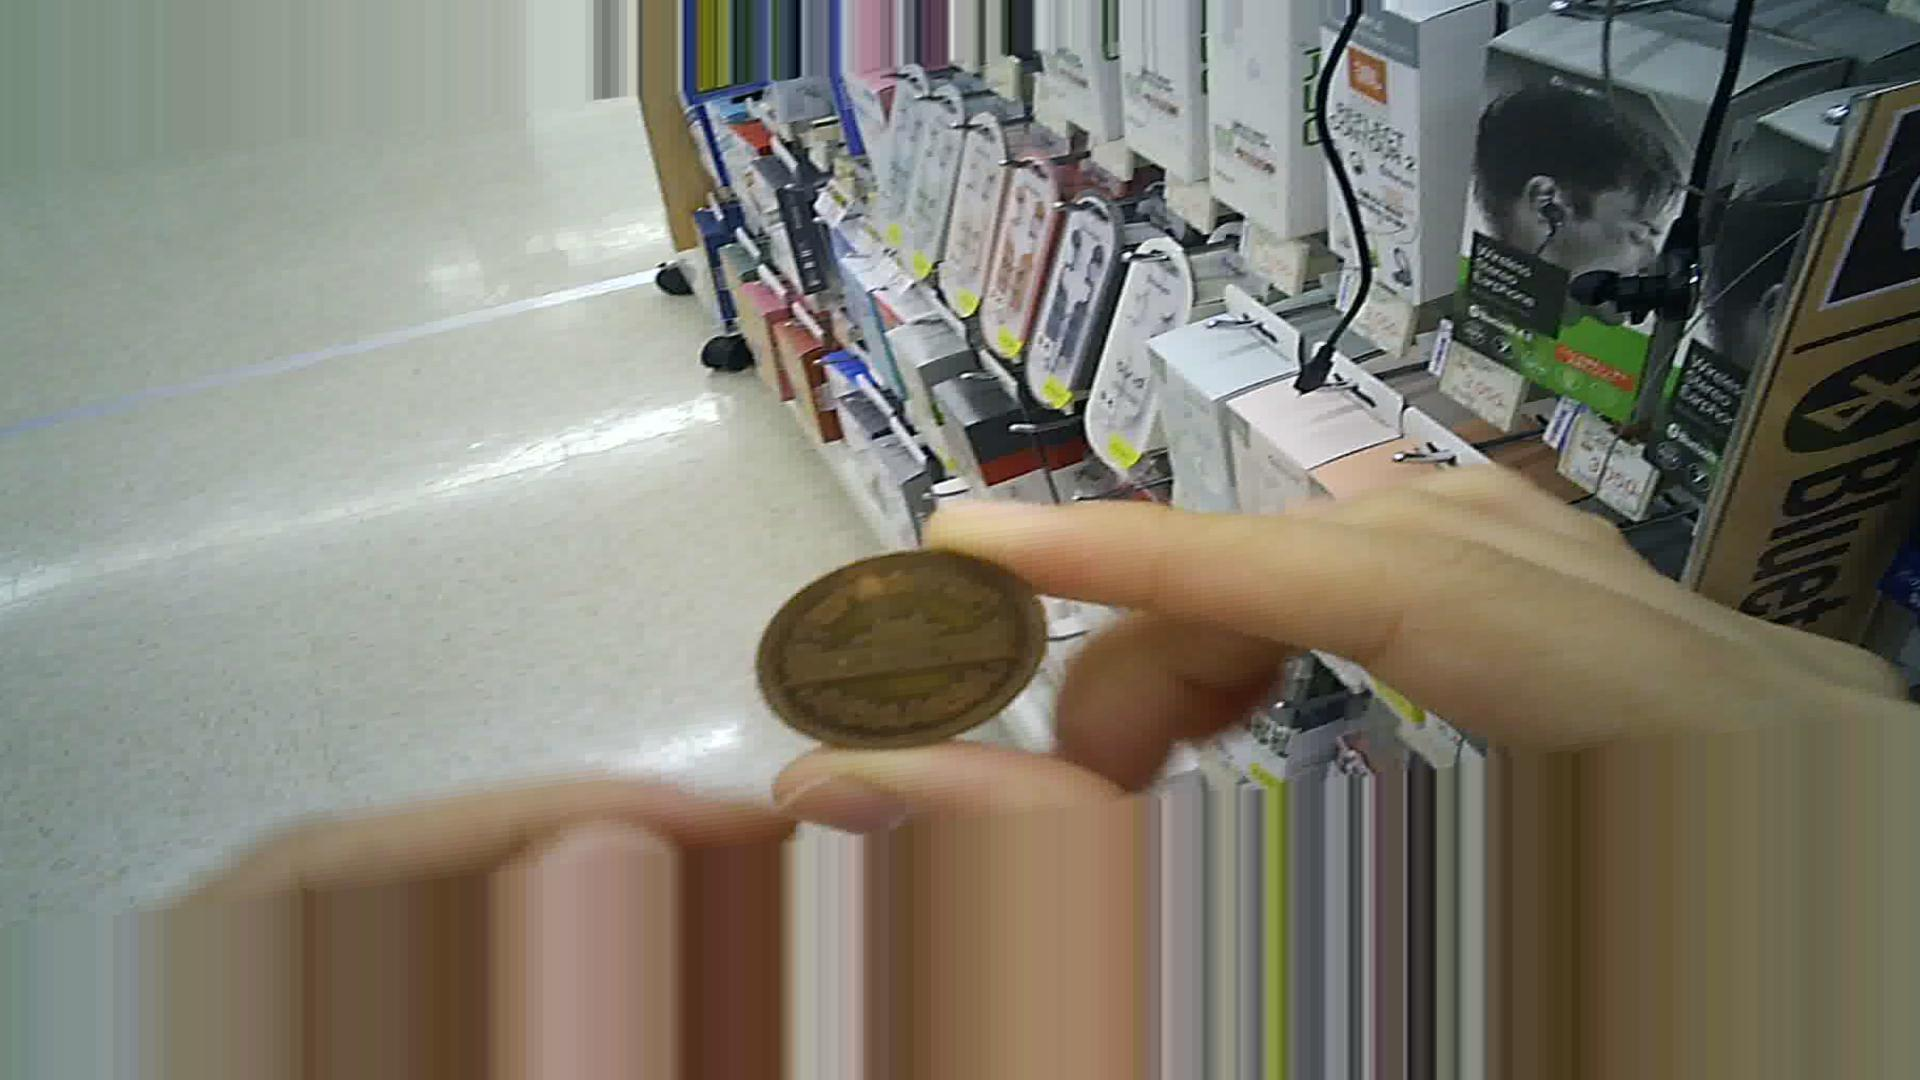10 Yen: (752, 543, 1054, 757)
